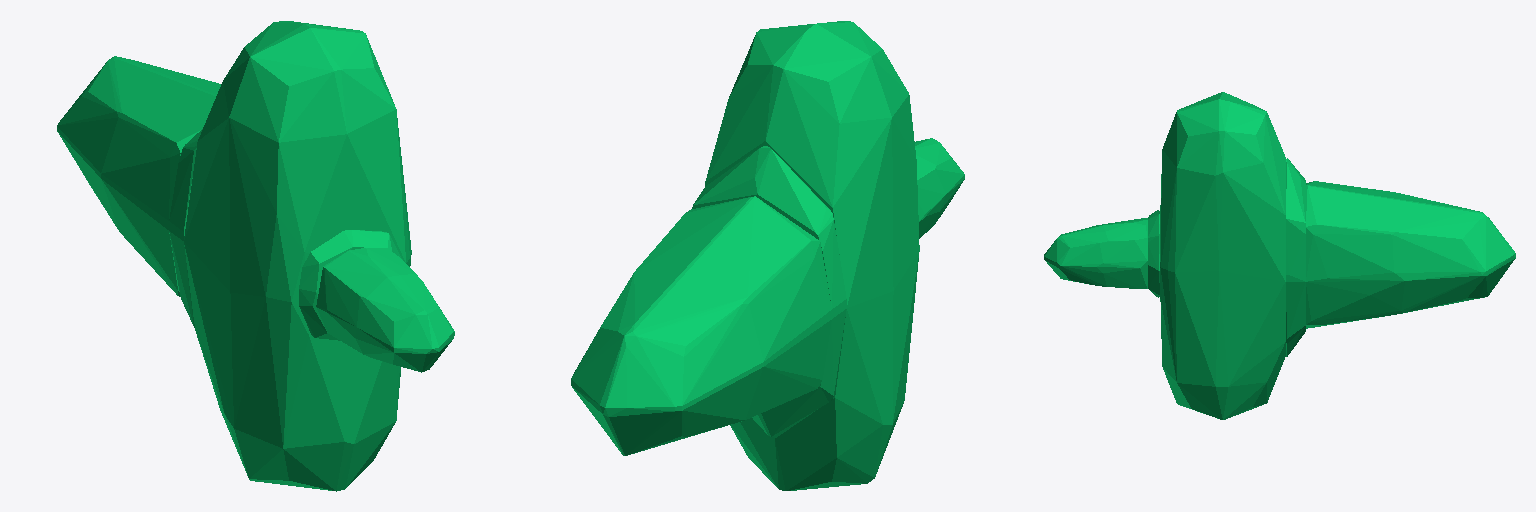
The robot description file, URDF, robot "blob101":
<robot name="blob101">
  <link name="random_obj_101">
    <contact>
      <lateral_friction value="1.0"/>
      <rolling_friction value="0.0"/>
      <inertia_scaling value="3.0"/>
      <contact_cfm value="0.0"/>
      <contact_erp value="1.0"/>
    </contact>
    <inertial>
      <origin rpy="0 0 0" xyz="0 0 0"/>
      <mass value="0.1"/>
      <inertia ixx="1" ixy="0" ixz="0" iyy="1" iyz="0" izz="0"/>
    </inertial>
    <visual>
      <origin rpy="0 0 0" xyz="0 0 0"/>
      <geometry>
        <mesh filename="101.obj" scale="0.015 0.015 0.015"/>
      </geometry>
      <material name="blockmat">
        <color rgba="0.08 0.80 0.45 1"/>
      </material>
    </visual>
    <collision>
      <origin rpy="0 0 0" xyz="0 0 0"/>
      <geometry>
        <mesh filename="101.obj" scale="0.015 0.015 0.015"/>
      </geometry>
    </collision>
  </link>
</robot>

--- What the picture shows (computed from the rendered views, not written in the file) ---
The picture shows the robot from 3 angles, left to right: view 1: azimuth 30°, elevation 25°; view 2: azimuth 150°, elevation 25°; view 3: azimuth 270°, elevation 25°; orthographic projection.
Model blob101 with 1 links and 0 joints (none), rooted at random_obj_101, posed every joint at zero.
Visible links, largest first — view 1: random_obj_101; view 2: random_obj_101; view 3: random_obj_101.
Link boxes in pixels (bbox=[...]): random_obj_101: bbox=[57, 21, 454, 491]; random_obj_101: bbox=[571, 21, 964, 490]; random_obj_101: bbox=[1044, 92, 1515, 419].
Size in the robot's own frame: 0.0312 by 0.121 by 0.0898 metres.
1 mesh visuals loaded from 1 distinct referenced files (1 OBJ).